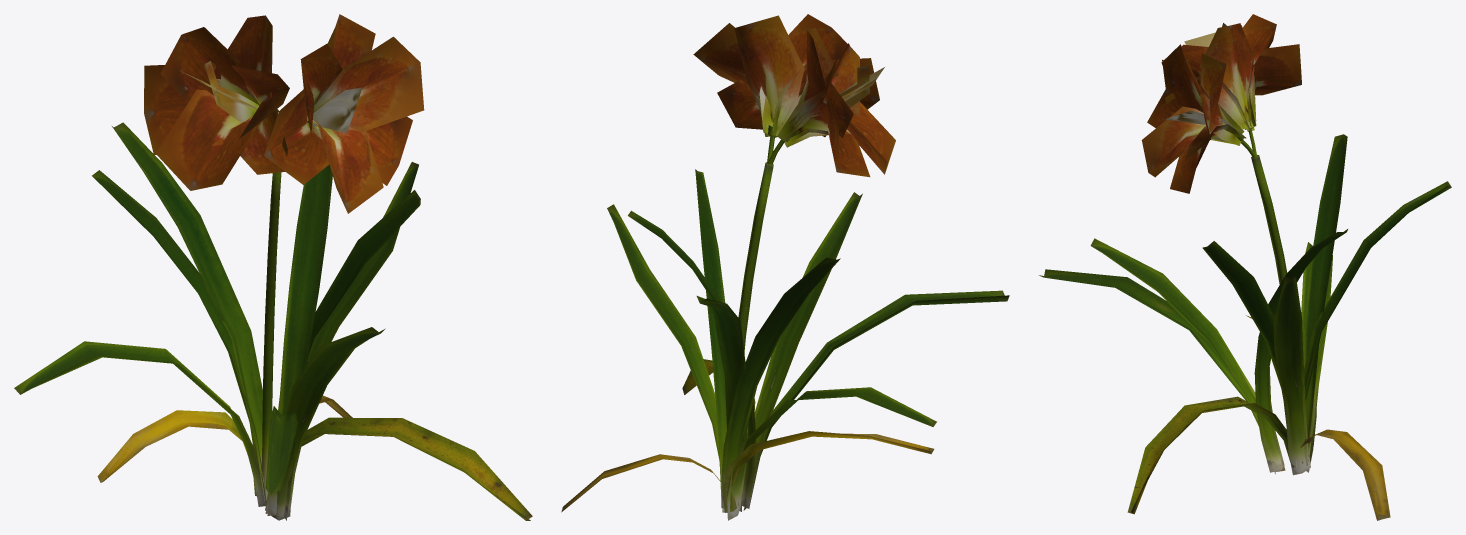
Rendered from Amaryllis_OG_normal_peach.glb.
The picture shows the model from 3 angles, left to right: view 1: azimuth 30°, elevation 25°; view 2: azimuth 150°, elevation 25°; view 3: azimuth 270°, elevation 25°; orthographic projection. The views are drawn at different scales.
Visible parts, largest first — view 1: og; view 2: og; view 3: og.
Part boxes in pixels (<box>): og: <box>14,14,532,520</box>; og: <box>561,14,1009,520</box>; og: <box>1039,14,1451,520</box>.
Bounding box in the file's own units: 1.36 × 1.74 × 1.51.
1 material, 1 textured.
